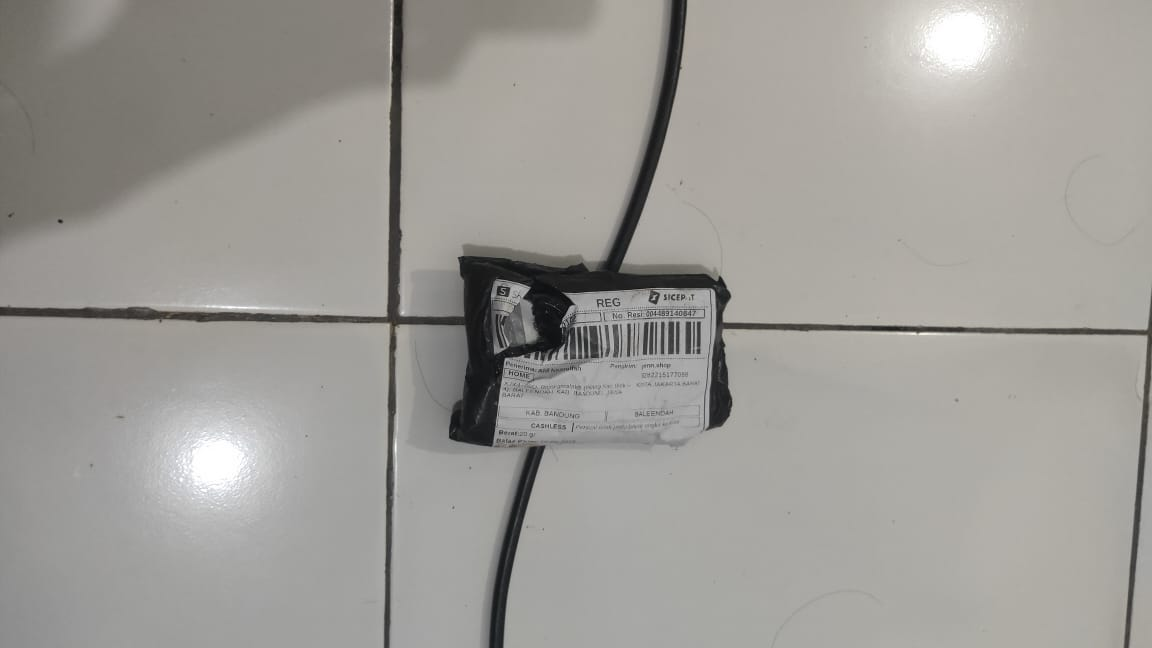damaged package: (482, 284, 587, 365)
undamaged: (445, 246, 735, 451)
